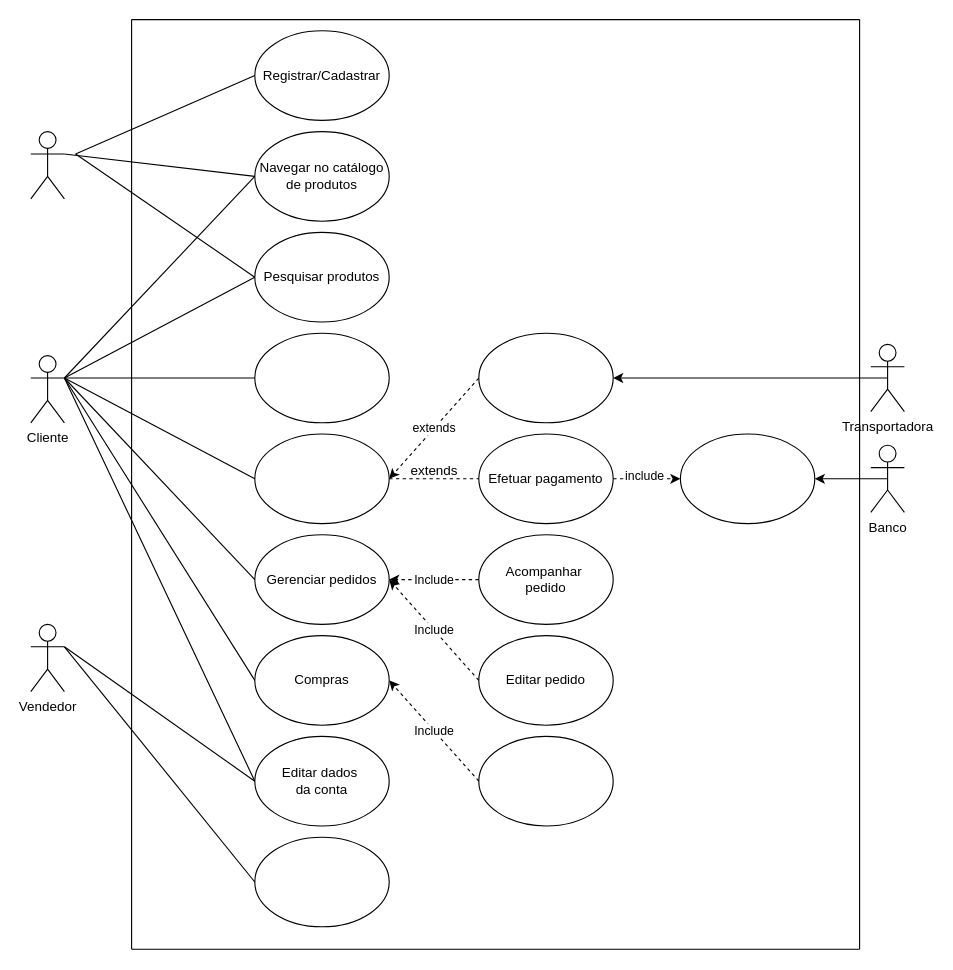
Image size: 953x970. Some labels were removed from this diagram. The shapes that lost their labels are listed below. From the top down, each one's centre as x and y in pixels, then its label:
At point 47,164: "Visitante".
At point 321,377: "Gerenciar carrinho".
At point 545,377: "Entrega".
At point 321,478: "Finalizar compra".
At point 747,478: "Validar cartão".
At point 545,780: "Baixar músicas compradas".
At point 321,881: "Publicar produto".
